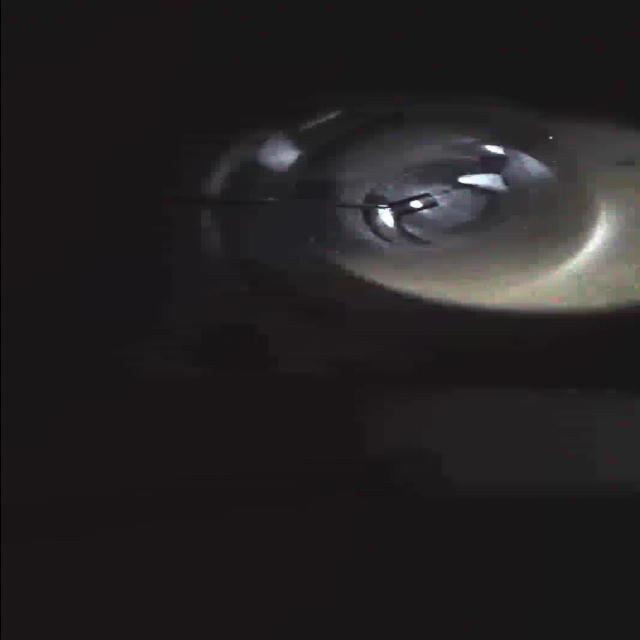impurity: (452, 166, 516, 197)
